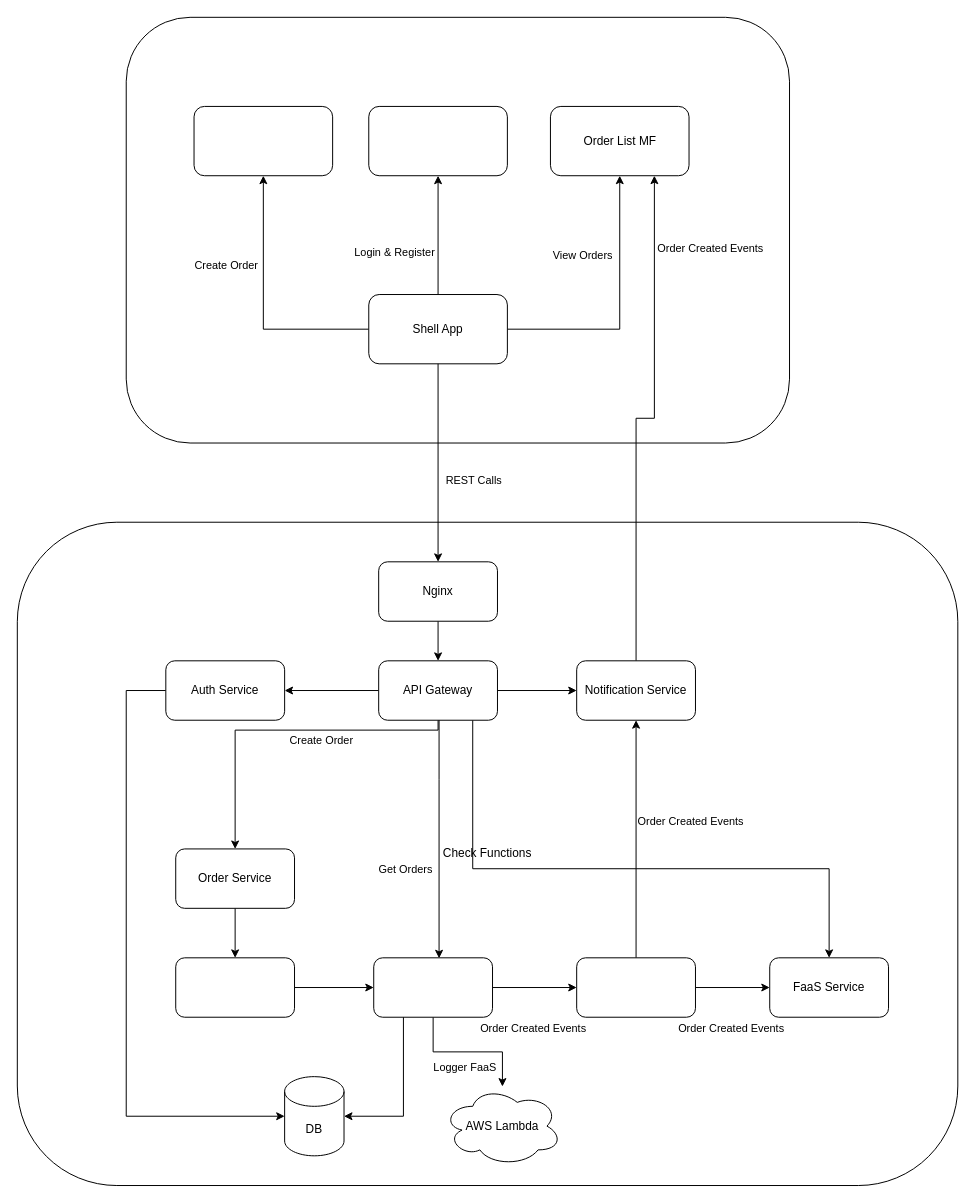
This 975x1203 diagram has some shape labels left out. The shapes that lost their labels are listed below. From the top down, each one's centre as x and y in pixels, then its label:
At (263,140): "Order Form MF".
At (437,140): "Auth MF".
At (235,987): "RabbitMQ".
At (433,987): "Processing Service".
At (635,987): "Kafka".
